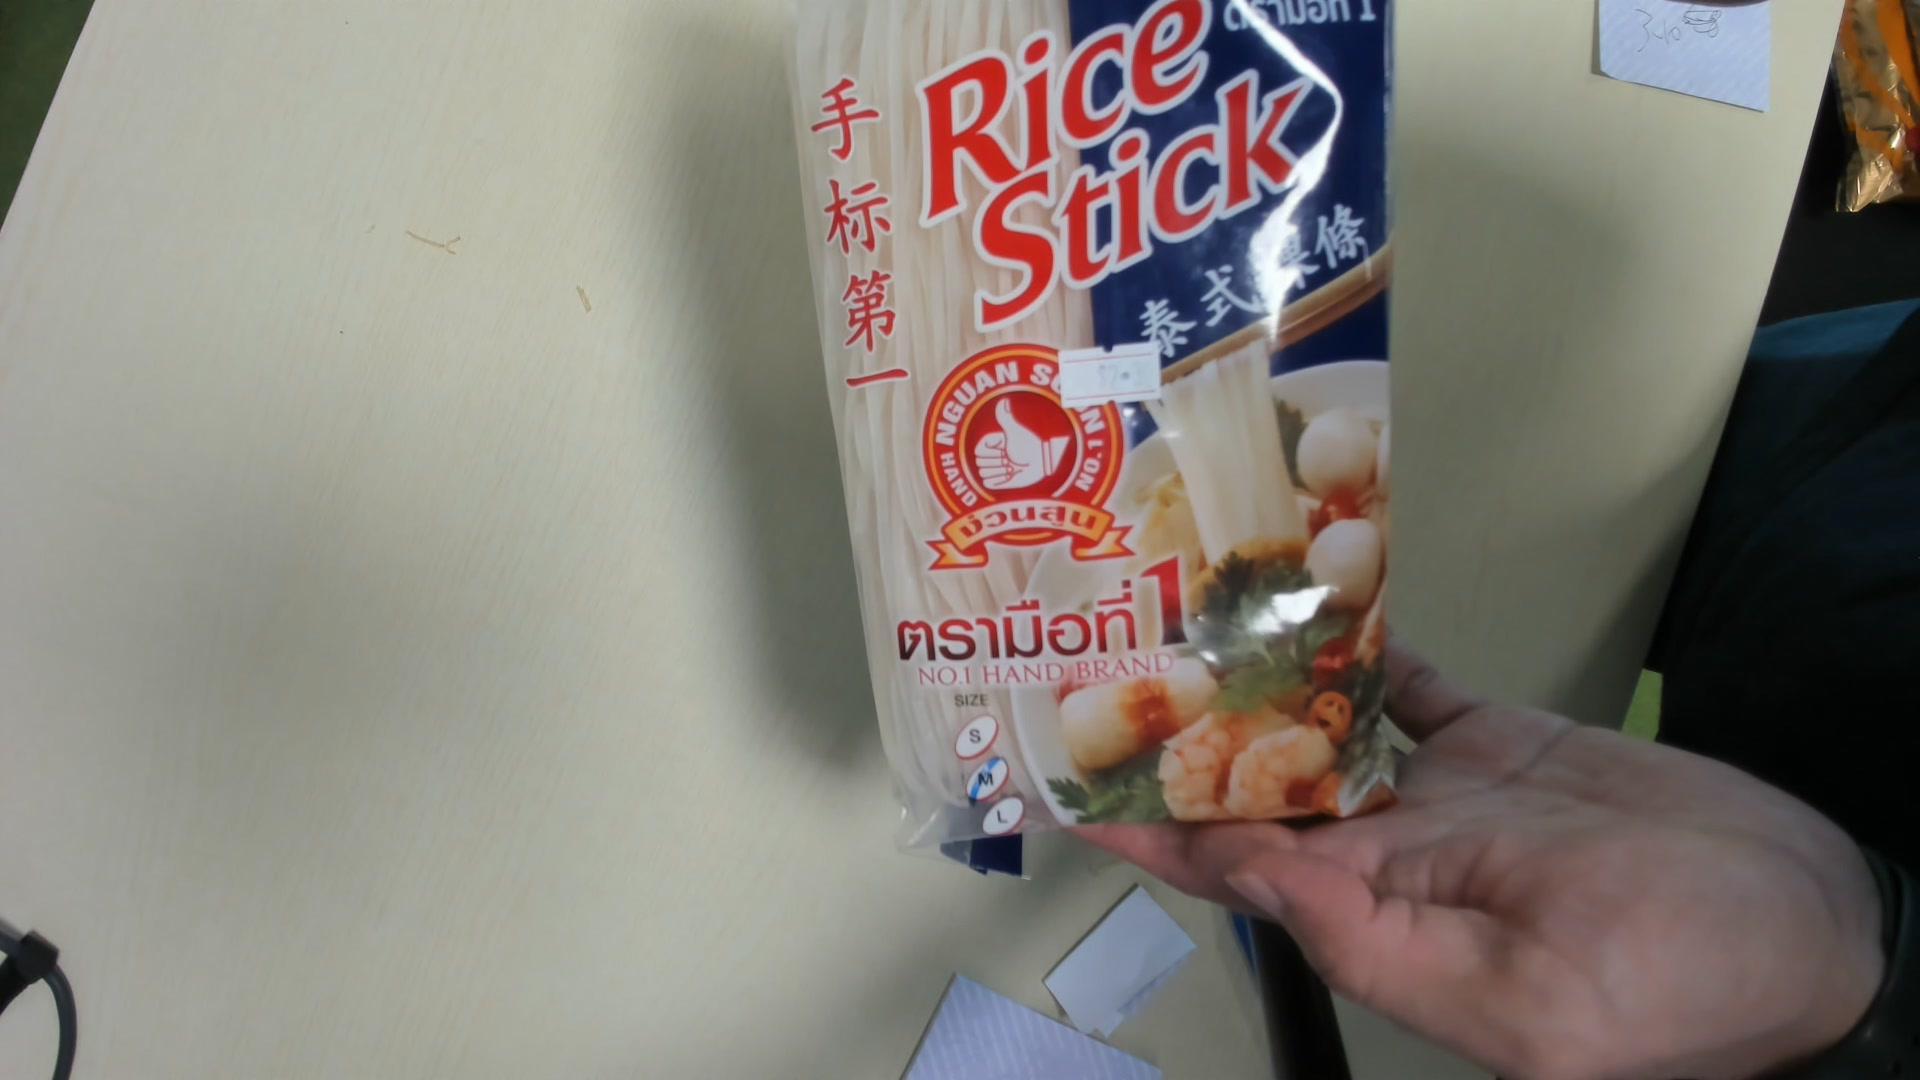OtherNoodles_400-499g_Halal_NonHealthy: (789, 1, 1391, 874)
